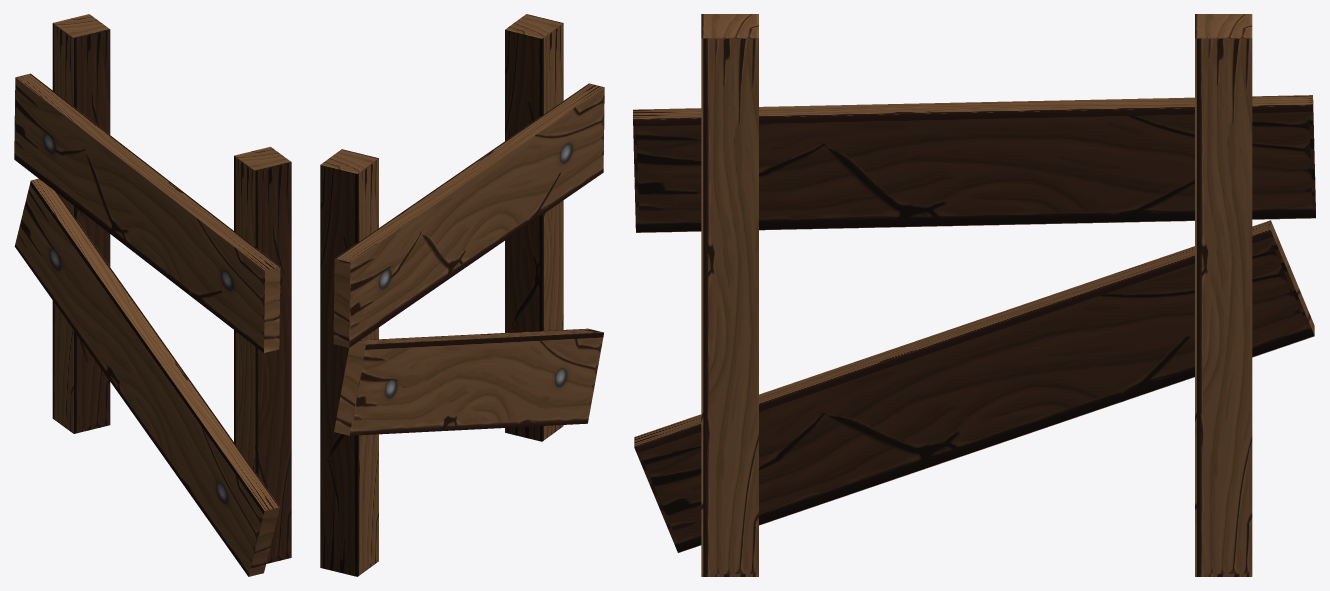
Rendered from WoodFence 4.fbx.
3 renders of one model, left to right at view 1: azimuth 30°, elevation 25°; view 2: azimuth 150°, elevation 25°; view 3: azimuth 270°, elevation 25°, orthographic. The views are drawn at different scales.
Parts seen in each view (by area): view 1: polySurface7; view 2: polySurface7; view 3: polySurface7.
Boxes of the visible parts, left/top/right/bottom form: polySurface7: left=14, top=14, right=291, bottom=576; polySurface7: left=320, top=14, right=604, bottom=576; polySurface7: left=633, top=14, right=1315, bottom=576.
Bounding box in the file's own units: 2.38 × 17.36 × 19.94.
1 material, 1 textured.
